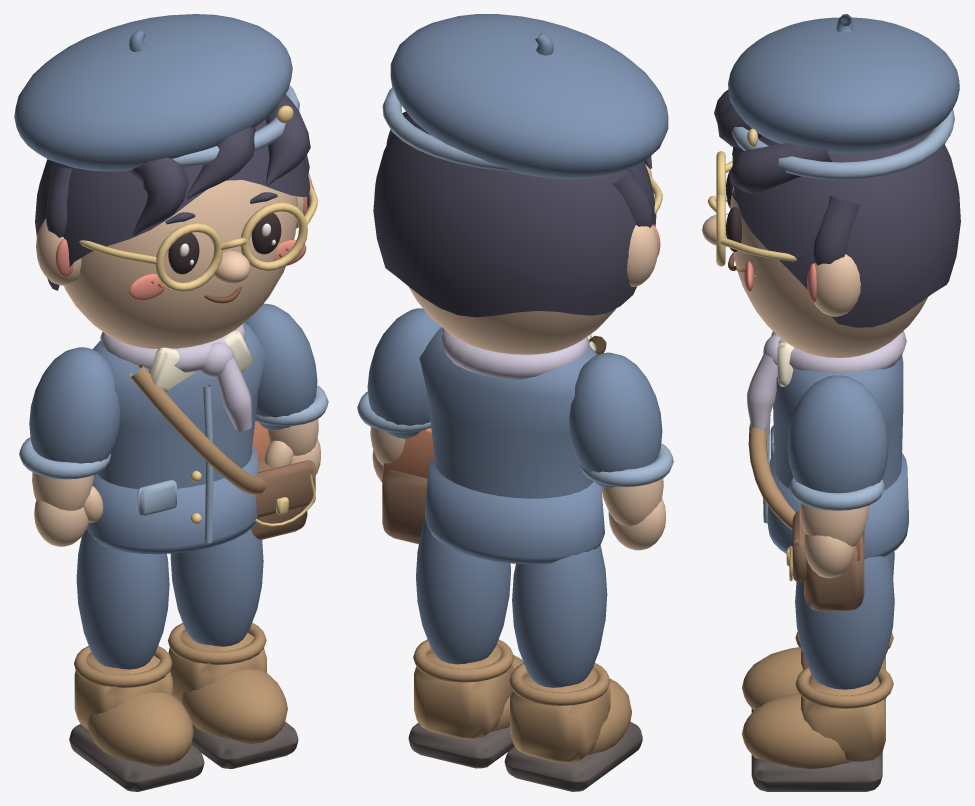
The model's file is Momo.fbx.
The picture shows the model from 3 angles, left to right: view 1: azimuth 30°, elevation 25°; view 2: azimuth 150°, elevation 25°; view 3: azimuth 270°, elevation 25°; orthographic projection. The views are drawn at different scales.
Parts seen in each view (by area): view 1: Momo_BodyMesh, Momo_LeftLegMesh, Momo_RightLegMesh, Momo_LeftArmMesh, Momo_RightArmMesh; view 2: Momo_BodyMesh, Momo_LeftLegMesh, Momo_RightLegMesh, Momo_LeftArmMesh, Momo_RightArmMesh; view 3: Momo_BodyMesh, Momo_RightLegMesh, Momo_RightArmMesh, Momo_LeftLegMesh.
Part boxes in pixels (x1,y1,x2,y2): Momo_BodyMesh: (14, 14, 317, 554); Momo_LeftLegMesh: (69, 529, 204, 791); Momo_RightLegMesh: (168, 529, 298, 768); Momo_LeftArmMesh: (19, 347, 120, 546); Momo_RightArmMesh: (245, 303, 328, 474); Momo_BodyMesh: (373, 14, 668, 564); Momo_LeftLegMesh: (504, 545, 642, 791); Momo_RightLegMesh: (408, 519, 523, 768); Momo_LeftArmMesh: (569, 352, 673, 550); Momo_RightArmMesh: (357, 308, 441, 481); Momo_BodyMesh: (702, 14, 960, 611); Momo_RightLegMesh: (742, 555, 894, 791); Momo_RightArmMesh: (787, 375, 888, 578); Momo_LeftLegMesh: (742, 551, 894, 712).
Size of the model in its own units: 1.03 by 2.39 by 0.7737.
